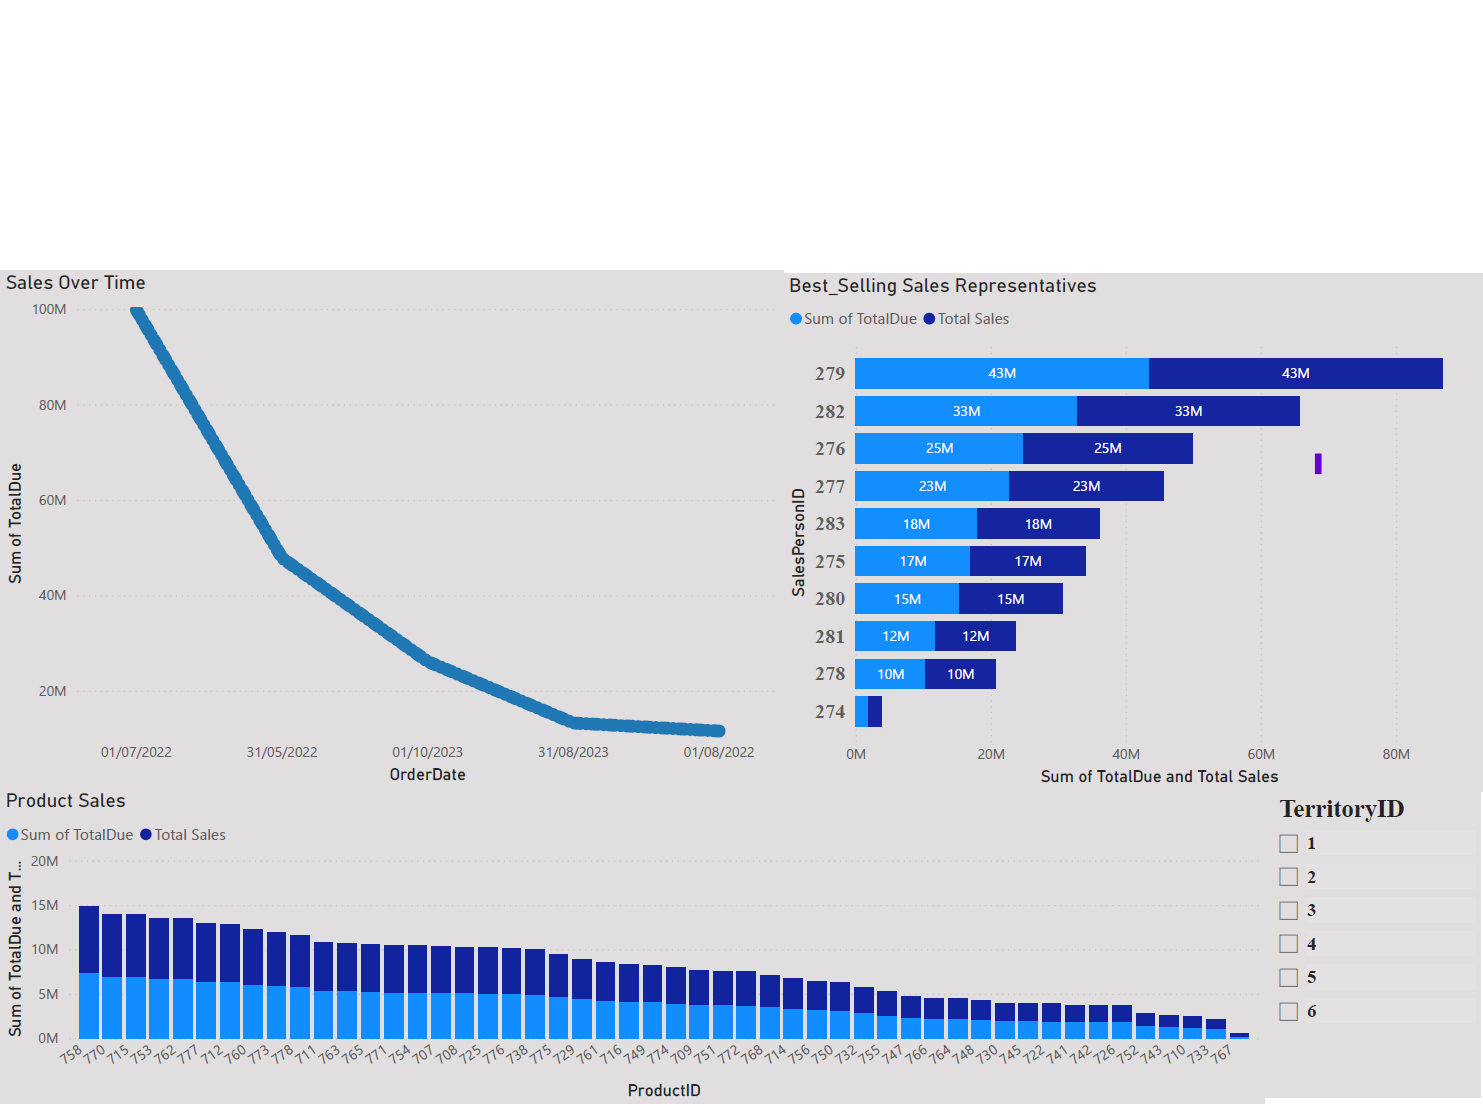

The dashboard page shown, as its layout file describes it:
{"tool":"powerbi","page":{"name":"Page 1","canvas":[1280,720],"ordinal":0},"visuals":[{"type":"lineChart","title":"Sales Over Time","fields":{"Y":["Sum(Final Sales.TotalDue)"],"Category":["Final Sales.OrderDate"]},"box":[0,0,675.6,446.7],"z":0},{"type":"columnChart","title":" Product Sales","fields":{"Category":["Final Sales.ProductID"],"Y":["Sum(Final Sales.TotalDue)","Final Sales.Total Sales"]},"box":[0,446.7,1091.1,273.3],"z":1000},{"type":"barChart","title":"Best_Selling Sales Representatives","fields":{"Category":["Final Sales.SalesPersonID"],"Y":["Sum(Final Sales.TotalDue)","Final Sales.Total Sales"]},"box":[675.6,2.2,604.4,446.7],"z":2000},{"type":"slicer","fields":{"Values":["Final Sales.TerritoryID"]},"box":[1131.1,513.3,148.9,206.7],"z":3000}]}

Visuals, with their boxes on the page's 1280x720 design canvas (x1, y1, x2, y2). These are canvas units, not pixel positions in the 1483x1104 screenshot, which may show the page scaled, cropped or inside an application window:
"Sales Over Time" lineChart: l=0, t=0, r=676, b=447
" Product Sales" columnChart: l=0, t=447, r=1091, b=720
"Best_Selling Sales Representatives" barChart: l=676, t=2, r=1280, b=449
slicer - Final Sales.TerritoryID: l=1131, t=513, r=1280, b=720
